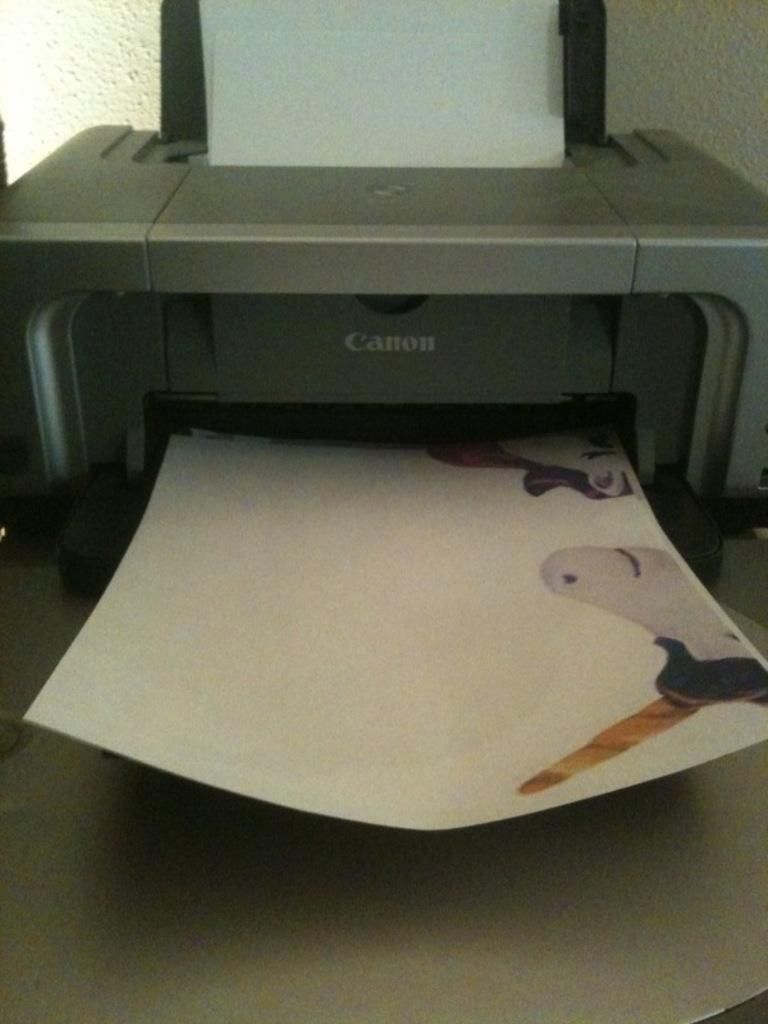Printer: (0, 0, 767, 595)
